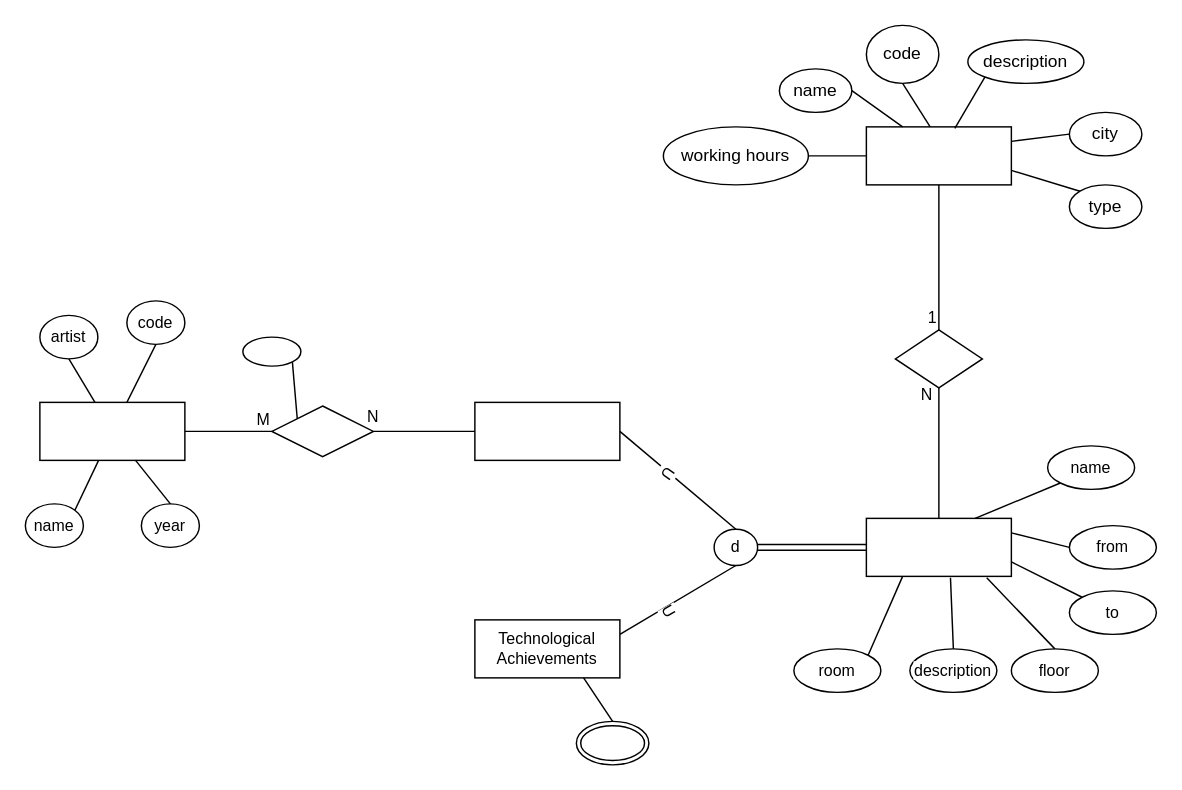
Image size: 1182x790. Some labels were removed from this diagram. The centre of each missing label's shape, as x and y in pixels:
Artwork: point (111, 430)
Artwork Exhibition: point (546, 430)
date: point (271, 351)
Exhibition: point (938, 546)
Museum: point (938, 155)
objects: point (612, 742)
